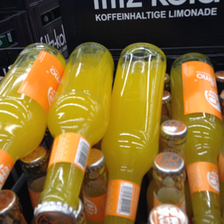soda: (35, 40, 114, 224), (103, 41, 168, 224), (2, 42, 63, 198), (169, 52, 223, 224)
